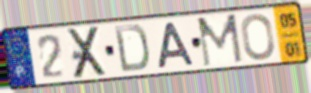2: (36, 33, 66, 80)
A: (155, 21, 197, 70)
D: (112, 23, 151, 74)
M: (195, 12, 245, 69)
O: (239, 12, 277, 62)
X: (66, 24, 109, 81)
